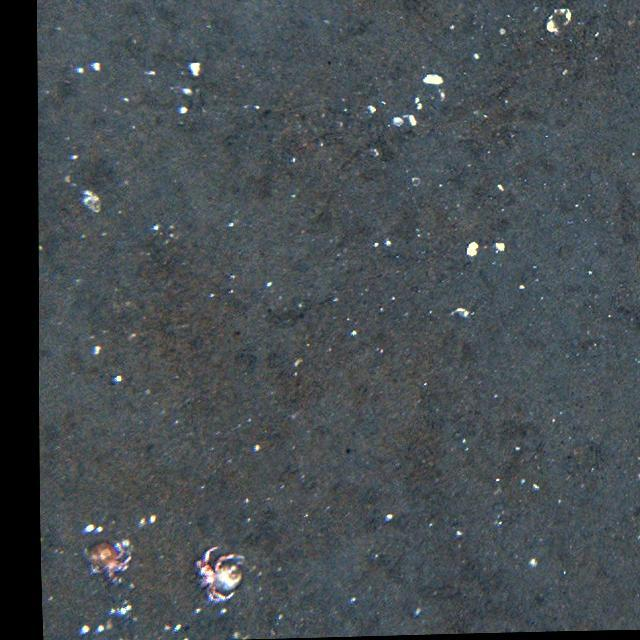crab: (190, 545, 228, 603)
